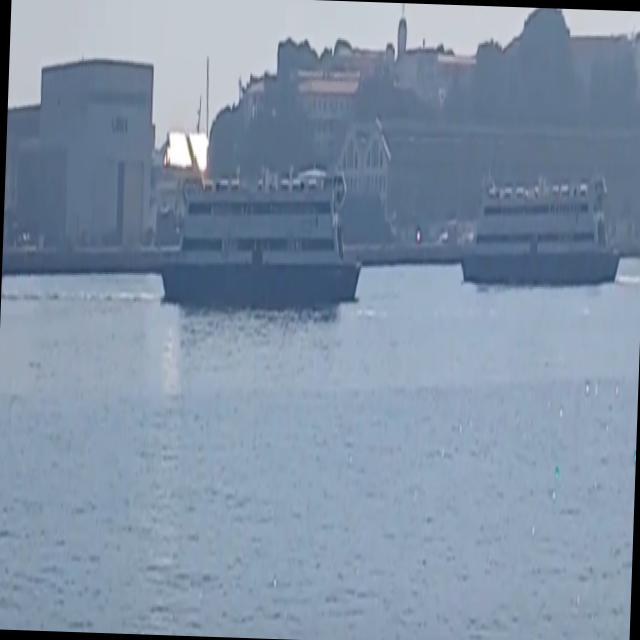Passenger: (154, 183, 360, 309), (462, 182, 619, 283)
